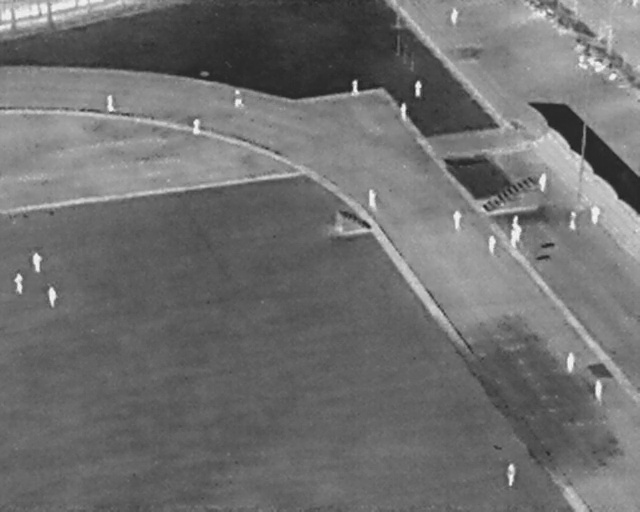DontCare: (566, 35, 633, 89)
Person: (505, 463, 516, 487), (486, 235, 497, 256), (48, 286, 58, 308), (565, 352, 575, 374), (33, 252, 43, 273), (234, 88, 244, 108), (13, 273, 23, 293), (452, 210, 462, 230), (590, 204, 600, 224), (511, 224, 522, 242), (367, 189, 377, 208), (449, 8, 459, 26), (538, 173, 547, 192), (594, 380, 602, 401), (569, 211, 577, 231), (106, 95, 115, 112), (193, 118, 201, 136), (414, 80, 422, 97), (352, 79, 360, 96), (509, 230, 516, 248), (400, 103, 407, 120), (512, 215, 518, 230)
